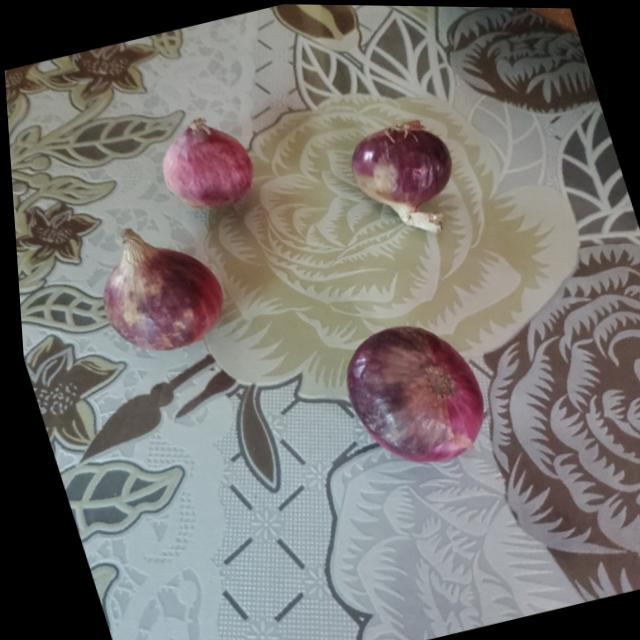onion: (328, 310, 498, 477), (76, 212, 236, 364), (339, 114, 460, 222), (145, 108, 260, 218)
